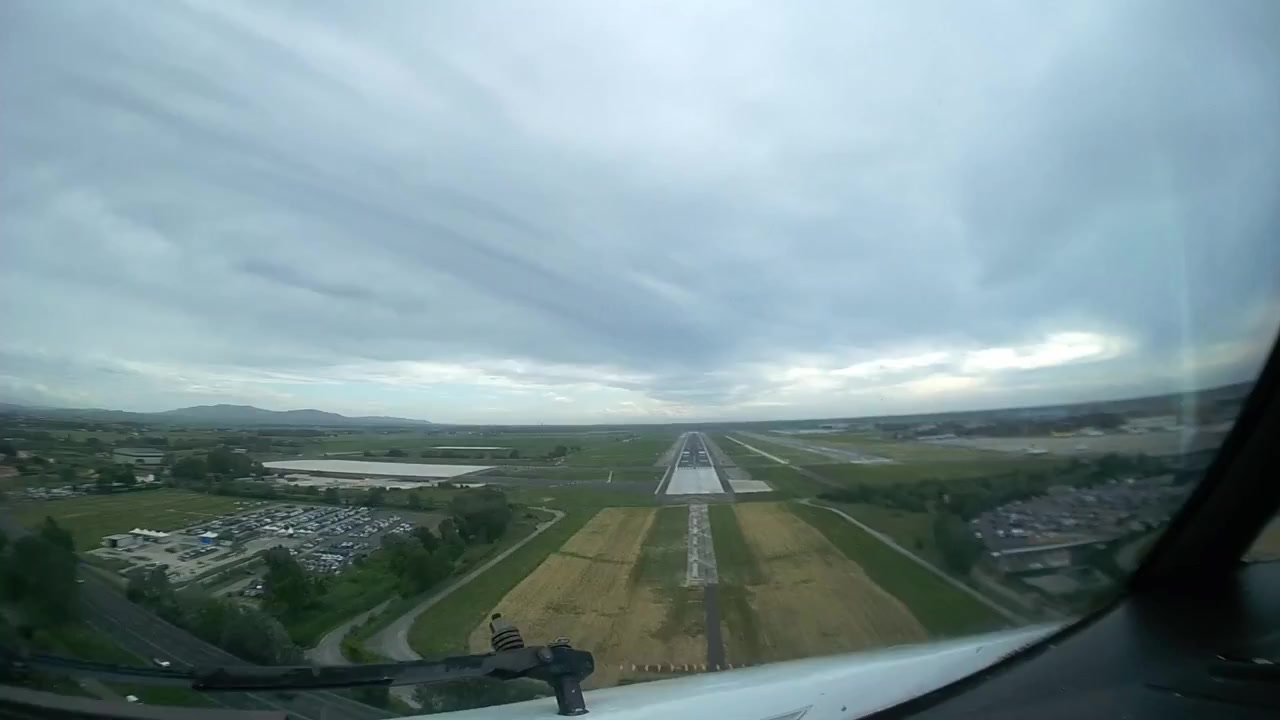runway: (675, 429, 716, 476)
